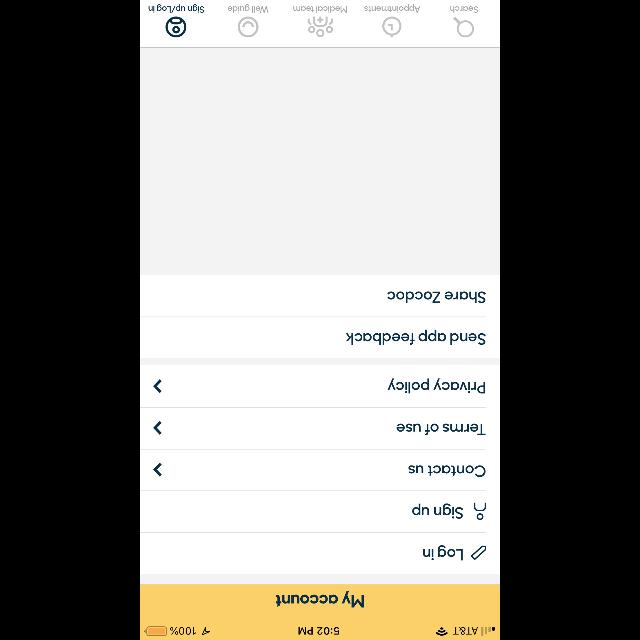icon: (307, 16, 333, 38), (452, 16, 473, 38), (166, 16, 187, 38), (382, 16, 402, 38), (470, 546, 486, 560), (474, 502, 486, 520), (152, 379, 162, 393), (152, 421, 162, 435), (153, 463, 161, 477)
image: (238, 16, 258, 38)
text: (346, 330, 486, 344), (276, 590, 364, 608), (388, 378, 484, 394), (386, 291, 486, 303), (396, 423, 486, 435), (408, 465, 486, 477), (412, 504, 462, 518), (422, 546, 462, 560), (364, 5, 420, 13), (148, 5, 204, 13), (293, 6, 347, 14), (228, 5, 268, 13), (450, 6, 478, 12)
uppertaskbar: (140, 626, 500, 640)
